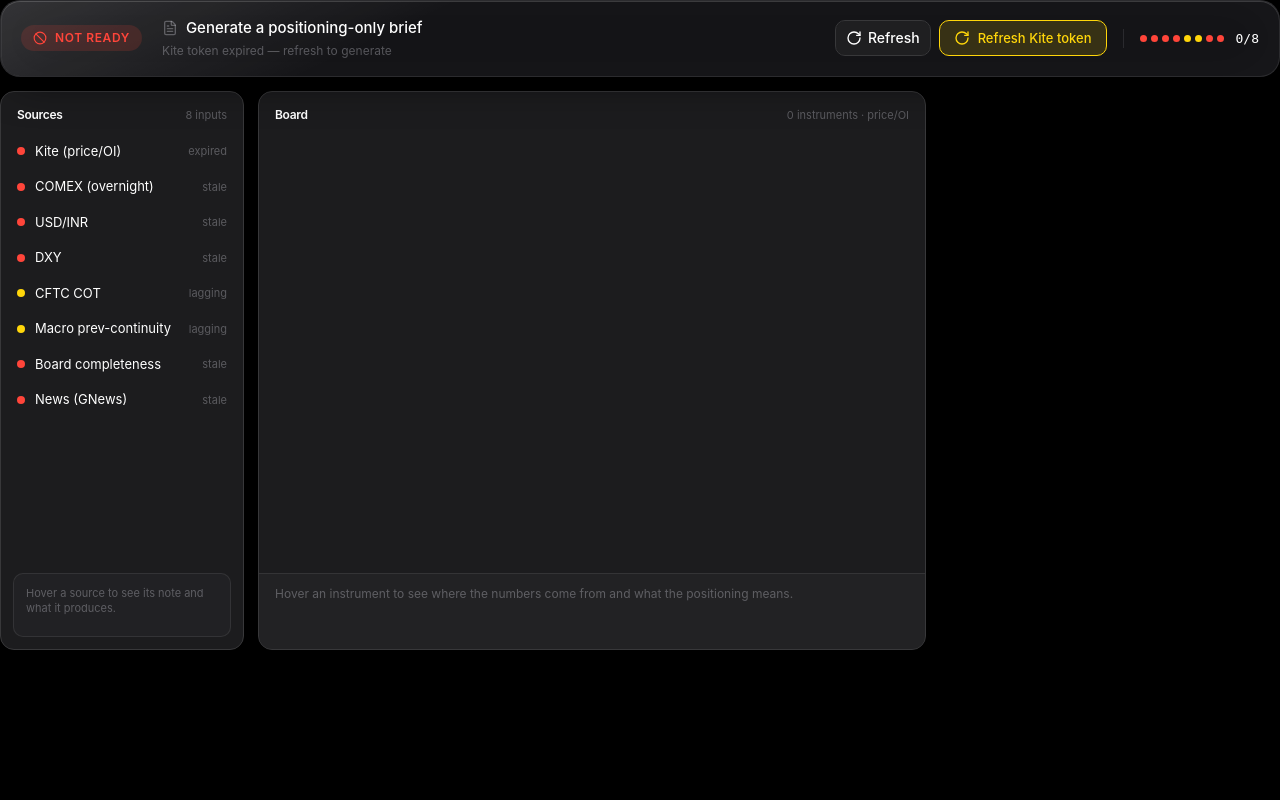
Test: ReadinessScreen — registry-driven, honest, manual-refresh only (FIN-174) › the Refresh-all sweep, then already_running, shows a bounded wait keyed on started_at
The image size is (1280, 800).
Click the button "Refresh": (883, 38) top-left (835, 20), bottom-right (931, 56)
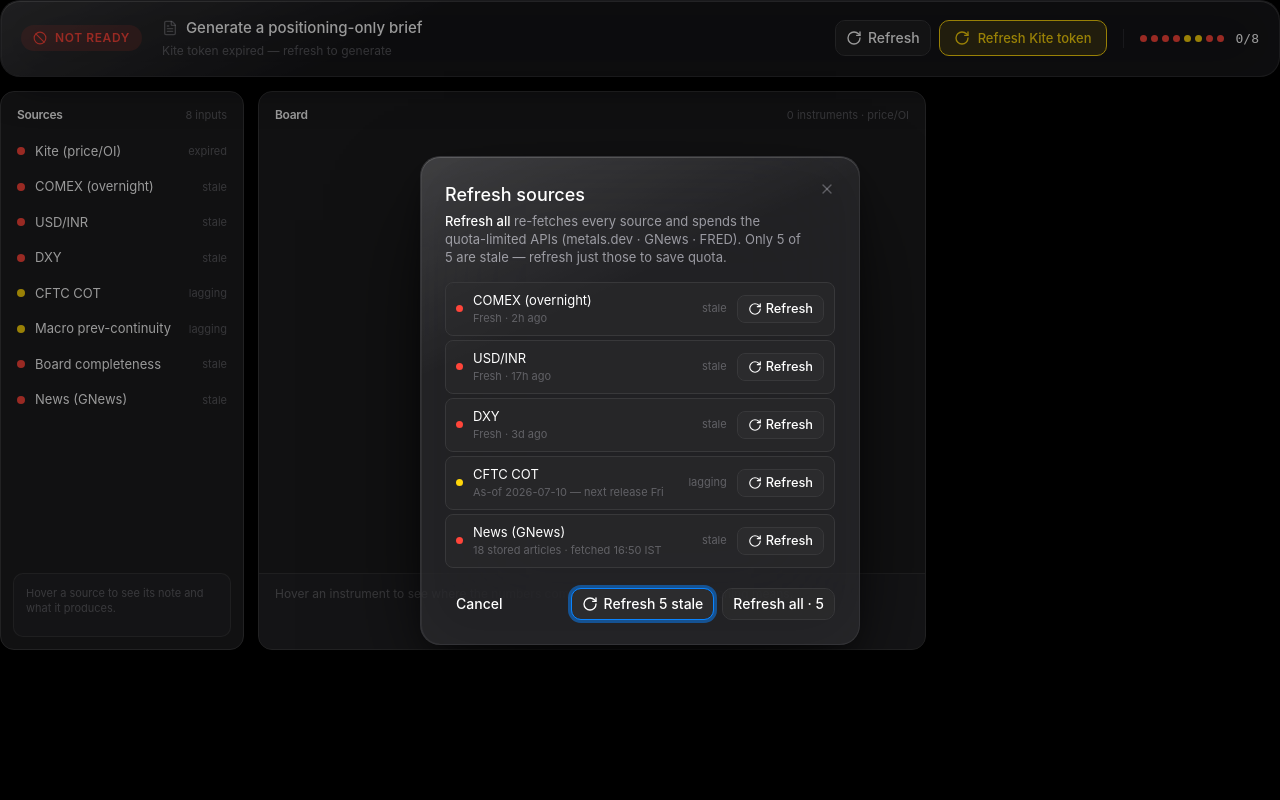
Click the button "Refresh all · 5": (779, 604) top-left (722, 588), bottom-right (835, 620)
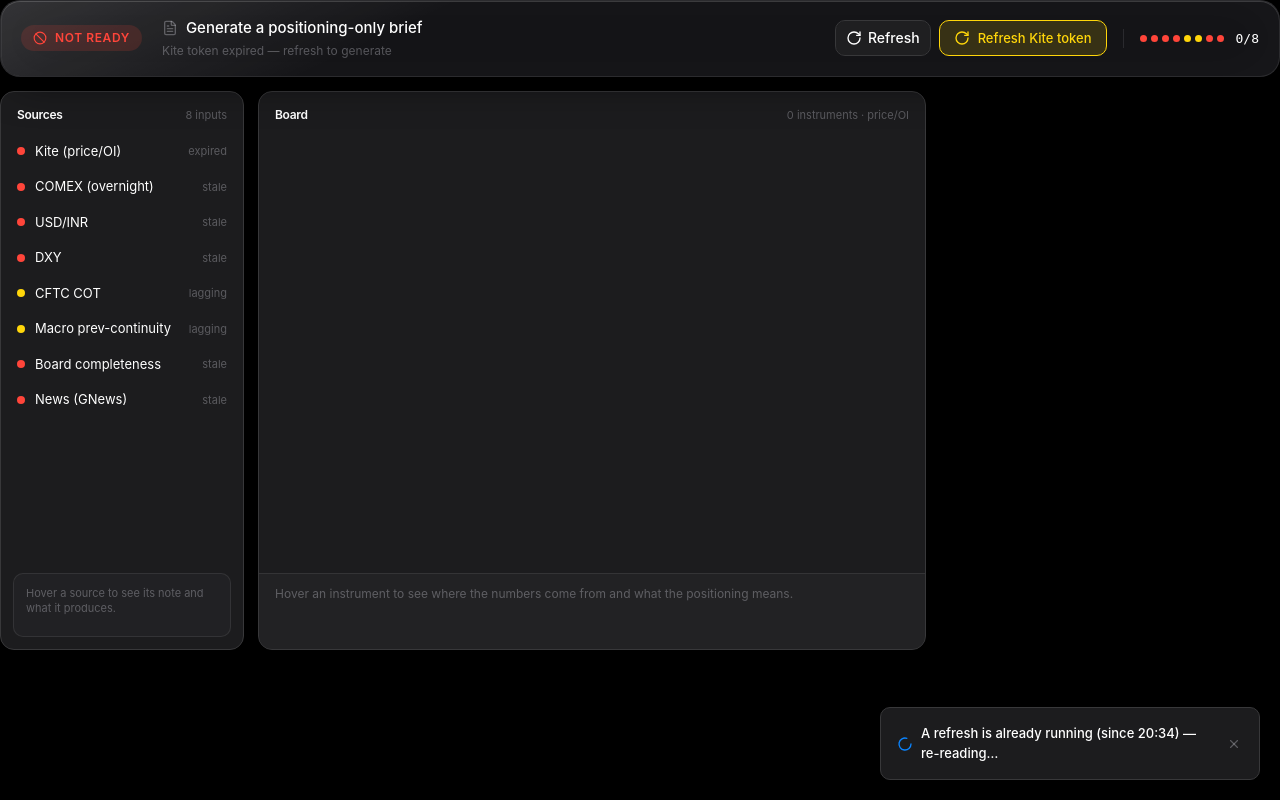
Check: the text "A refresh is already running (since 20:34) — re-reading…" is shown, box top-left (921, 724), bottom-right (1217, 763)
